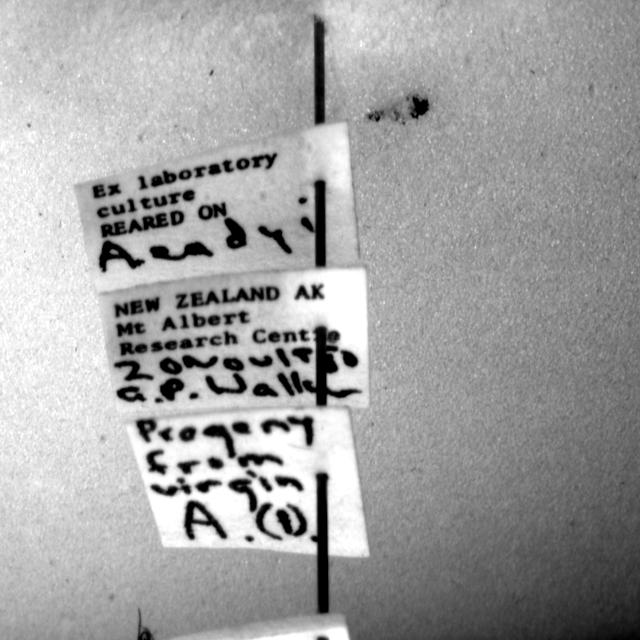hand_label: (126, 407, 370, 557)
mixed_label: (75, 120, 359, 292), (100, 266, 370, 412)
